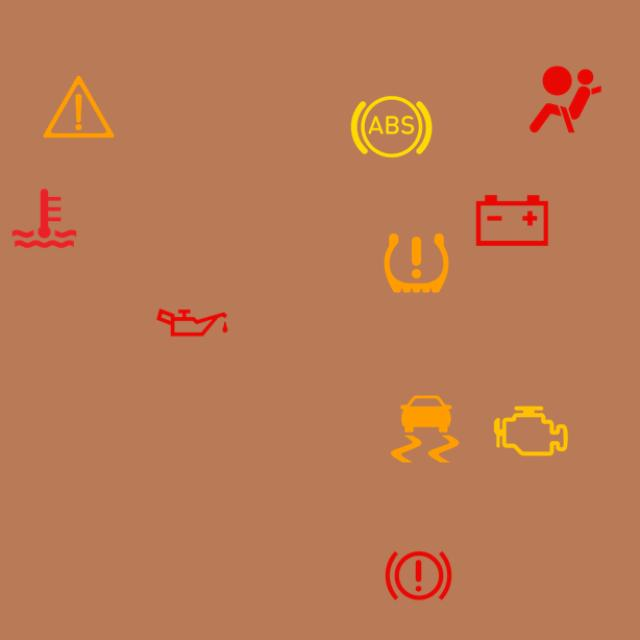Anti Lock Braking System: (347, 82, 436, 171)
Braking System Issue: (374, 532, 463, 620)
Charging System Issue: (468, 176, 557, 265)
Check Engine: (487, 387, 575, 475)
Electronic Stability Problem -ESP-: (381, 385, 469, 473)
Engine Overheating Warning Light: (0, 174, 89, 263)
Low Engine Oil Warning Light: (148, 278, 237, 367)
Low Tire Pressure Warning Light: (372, 219, 461, 307)
Master warning light: (34, 63, 123, 151)
SRS-Airbag: (521, 55, 610, 144)
